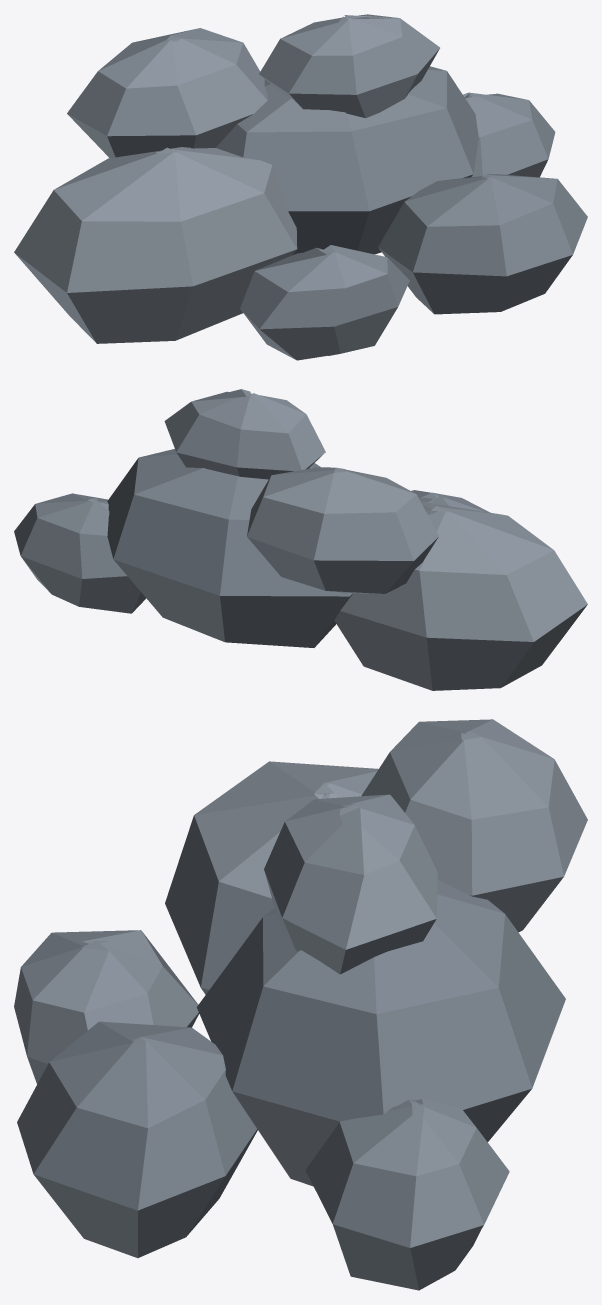
File: PROP_17_RubblePile.glb
The picture shows the model from 3 angles, top to bottom: view 1: azimuth 30°, elevation 25°; view 2: azimuth 150°, elevation 25°; view 3: azimuth 270°, elevation 25°; orthographic projection. The views are drawn at different scales.
Visible parts, largest first — view 1: PROP_17_RubblePile; view 2: PROP_17_RubblePile; view 3: PROP_17_RubblePile.
Part boxes in pixels (left/top/right/bottom): PROP_17_RubblePile: left=14, top=14, right=587, bottom=360; PROP_17_RubblePile: left=14, top=389, right=587, bottom=690; PROP_17_RubblePile: left=14, top=719, right=587, bottom=1290.
Size of the model in its own units: 1.58 by 0.7206 by 0.968.
